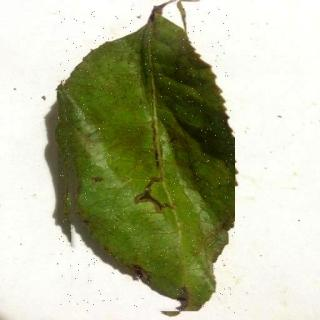Red Leaf Spot: (59, 10, 236, 315)
